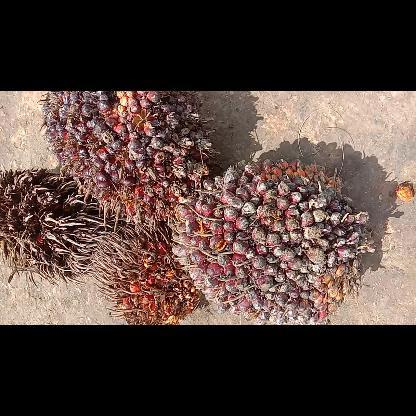Janjang kosong: (0, 166, 125, 285)
Kurang masak: (169, 154, 377, 324)
TBS masak: (36, 92, 224, 230)
Terlalu masak: (90, 223, 202, 324)
